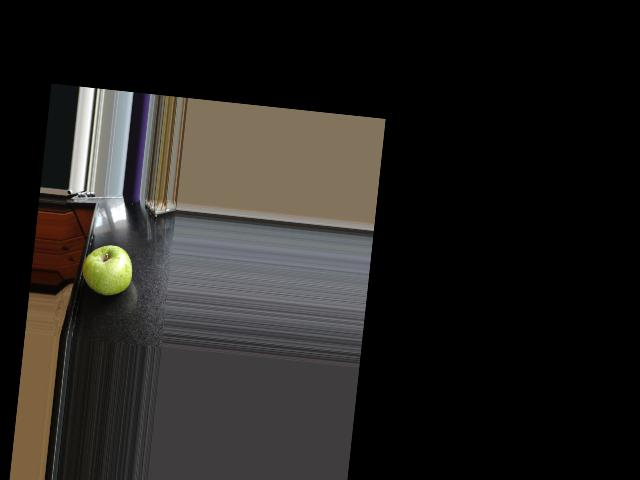apple: (78, 239, 137, 301)
